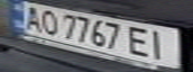6: (87, 17, 109, 47)
7: (103, 20, 127, 52), (57, 11, 78, 39), (72, 15, 90, 43)
A: (18, 2, 45, 33)
E: (124, 24, 154, 58)
I: (145, 28, 175, 62)
O: (36, 7, 60, 35)
